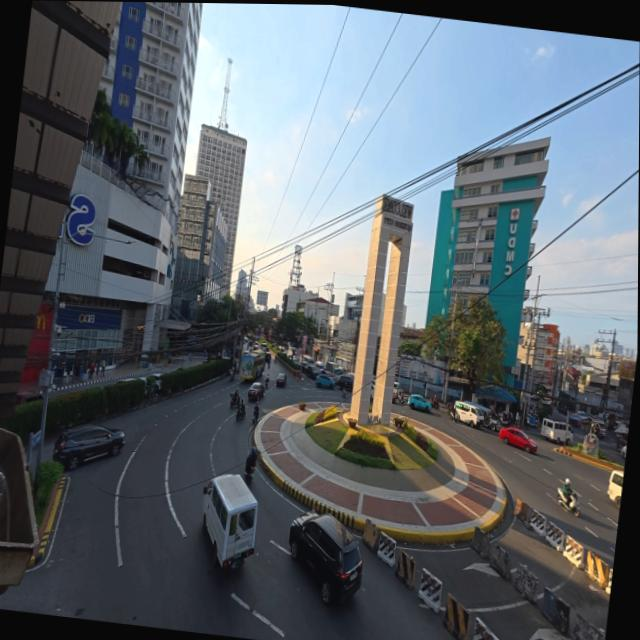Jeepneys: (464, 401, 509, 431)
bus: (240, 350, 263, 380)
car: (288, 513, 362, 603), (52, 425, 124, 470), (498, 428, 536, 453), (140, 373, 160, 393), (408, 394, 430, 411), (15, 391, 41, 405), (247, 382, 263, 400), (314, 375, 334, 389), (337, 373, 353, 388), (592, 422, 605, 438), (305, 365, 318, 379), (318, 369, 334, 380), (114, 377, 136, 385), (275, 373, 286, 386), (575, 411, 587, 421), (263, 350, 270, 363), (300, 359, 306, 372), (620, 445, 626, 457), (543, 398, 551, 405), (292, 356, 297, 364)
motorcycle: (556, 488, 579, 517), (243, 463, 254, 484), (235, 403, 245, 420), (229, 393, 238, 407), (447, 407, 455, 421), (251, 413, 258, 426), (431, 400, 438, 409), (229, 372, 235, 382), (264, 378, 268, 389), (267, 363, 268, 368)
vans: (202, 474, 256, 567), (541, 419, 572, 444), (454, 401, 483, 427), (607, 470, 623, 508), (314, 362, 324, 370), (260, 343, 265, 352)
